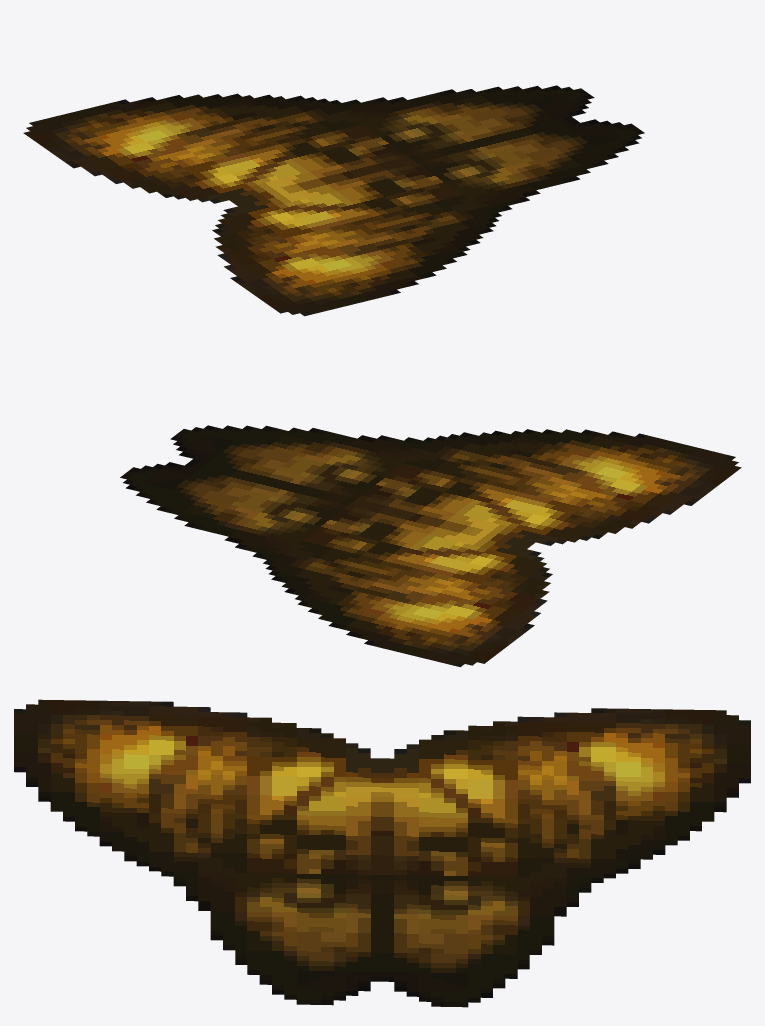
File: butterflyorange01.glb
3 views of the same model, one above another, from view 1: azimuth 30°, elevation 25°; view 2: azimuth 150°, elevation 25°; view 3: azimuth 270°, elevation 25° (orthographic). The views are drawn at different scales.
Bounding box in the file's own units: 0.2013 × 0.00353 × 0.2084.
Materials: 1 (1 with a texture image).
